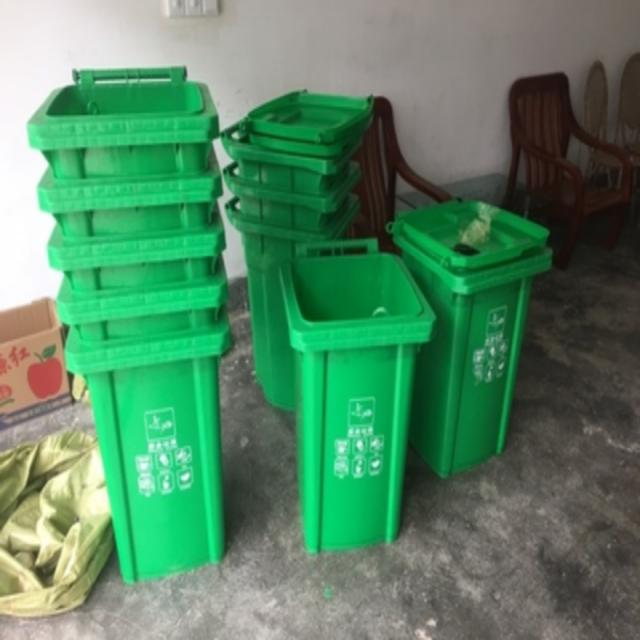ash bin: (277, 239, 435, 552), (389, 194, 550, 476), (62, 322, 232, 580)
